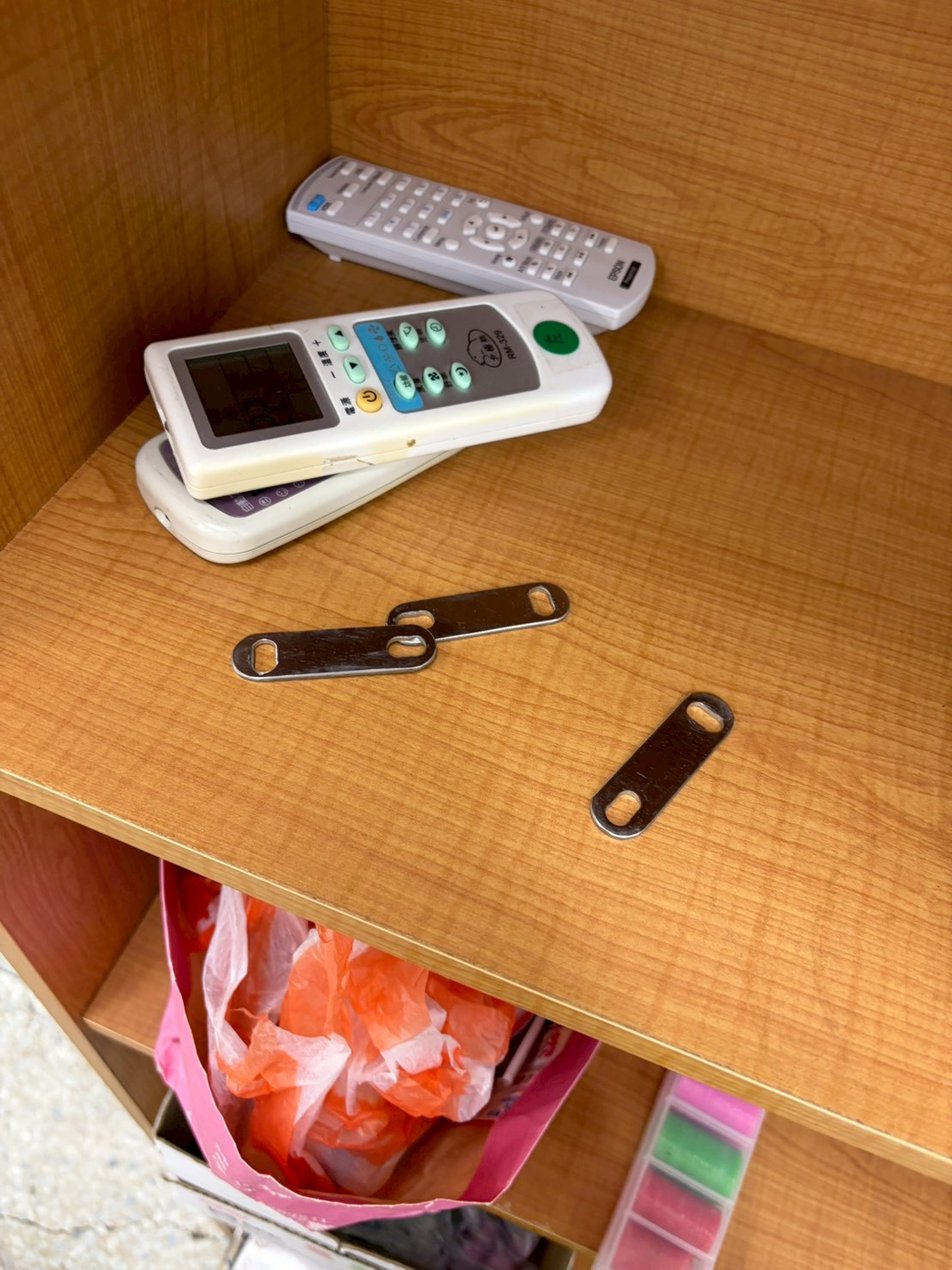Fe: (596, 673, 738, 841), (373, 567, 575, 648), (221, 615, 441, 689)
